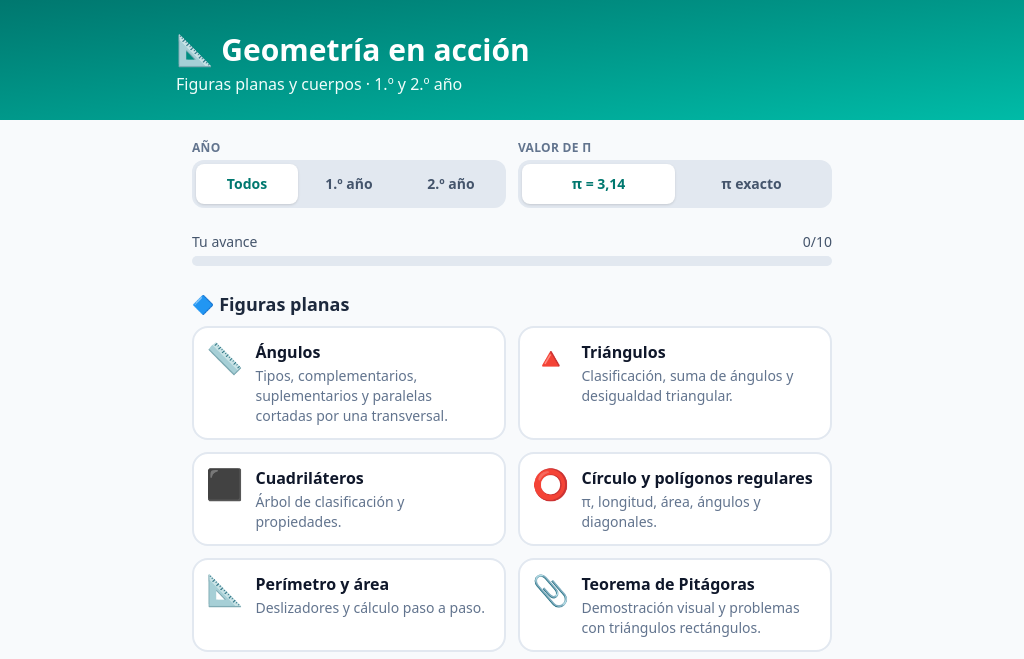
it: App (menú y navegación) › el filtro por año oculta lo que no corresponde
Expected: the text "Teorema de Pitágoras" is shown, x1=581 y1=573 x2=755 y2=595
Click the button "1.º año". click: (349, 184)
box: x1=298 y1=164 x2=400 y2=204
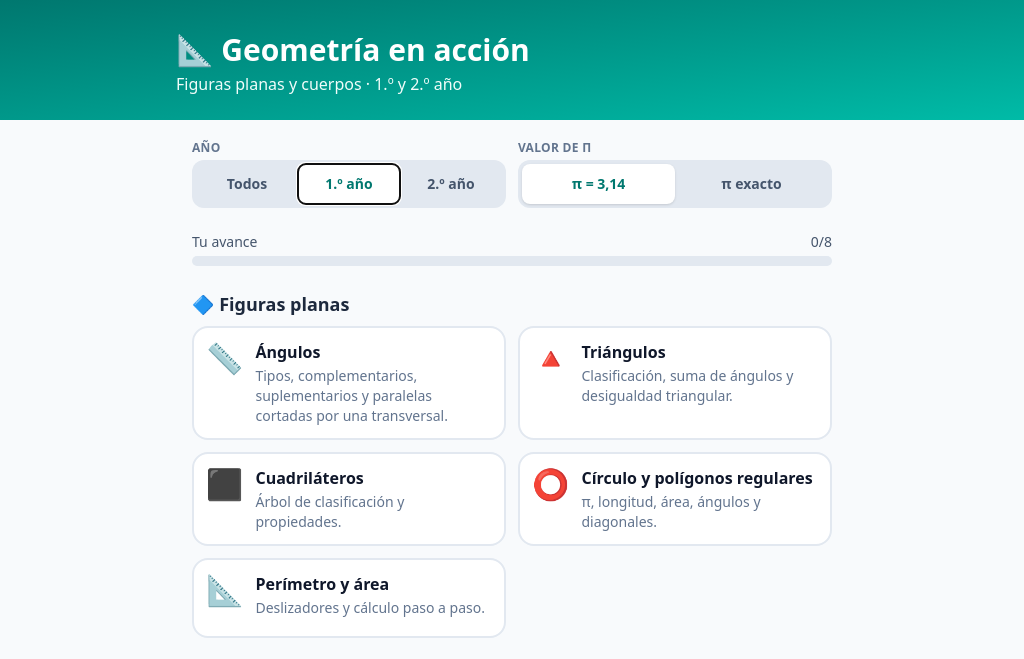
Result: the button "Teorema de Pitágoras" is gone
Click the button "2.º año". click: (451, 184)
box: x1=400 y1=164 x2=502 y2=204
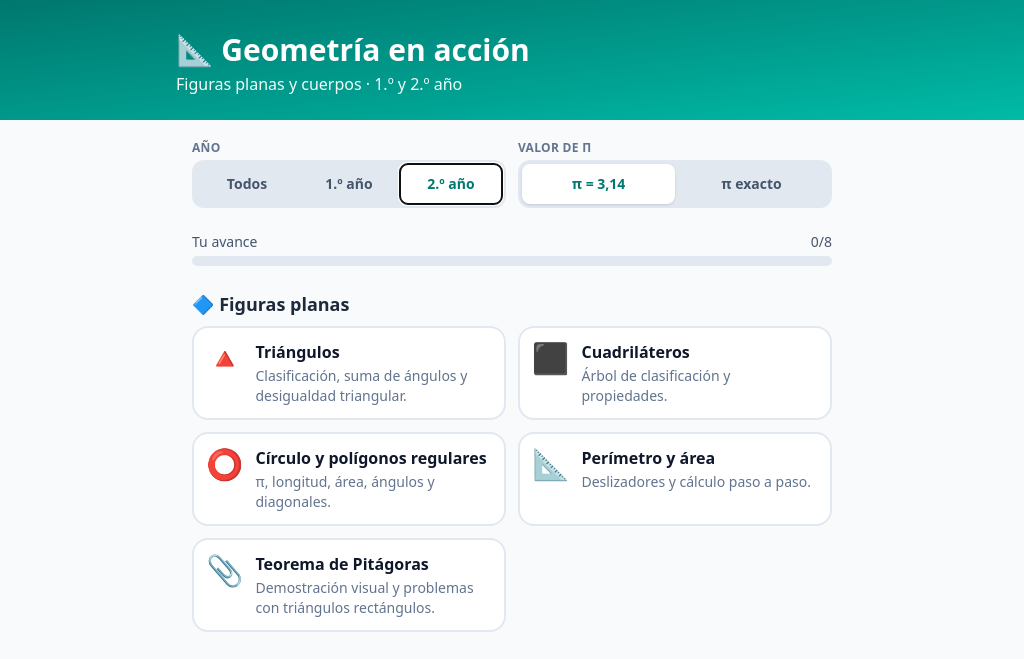
Result: the text "Teorema de Pitágoras" is shown at x1=255 y1=553 x2=429 y2=575
